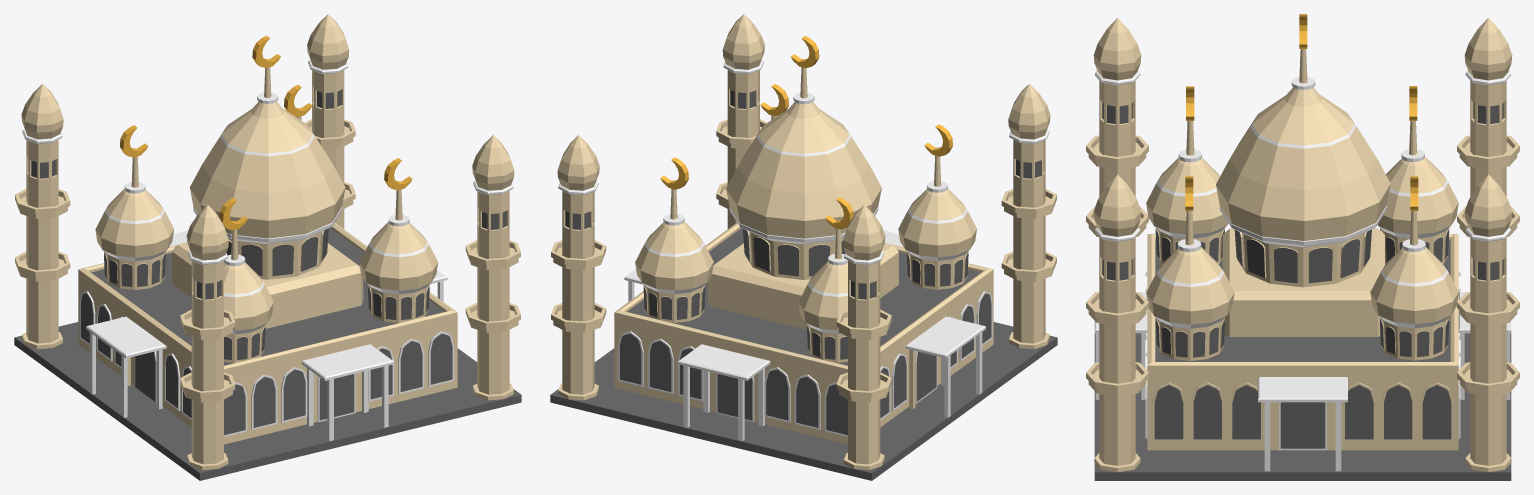
The model's file is Mosque 2.fbx.
3 renders of one model, left to right at view 1: azimuth 30°, elevation 25°; view 2: azimuth 150°, elevation 25°; view 3: azimuth 270°, elevation 25°, orthographic. The views are drawn at different scales.
Visible parts, largest first — view 1: Building_58_Color_0; view 2: Building_58_Color_0; view 3: Building_58_Color_0.
Part boxes in pixels (x1,y1,x2,y2): Building_58_Color_0: (14, 14, 521, 480); Building_58_Color_0: (550, 14, 1057, 480); Building_58_Color_0: (1086, 14, 1519, 480).
Size of the model in its own units: 3804 by 3663 by 3811.
Materials: 1 (1 with a texture image).
